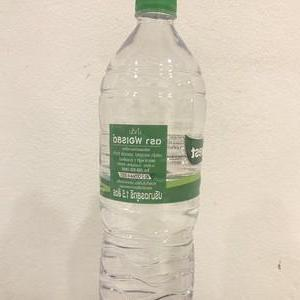bottle: (92, 0, 212, 300)
